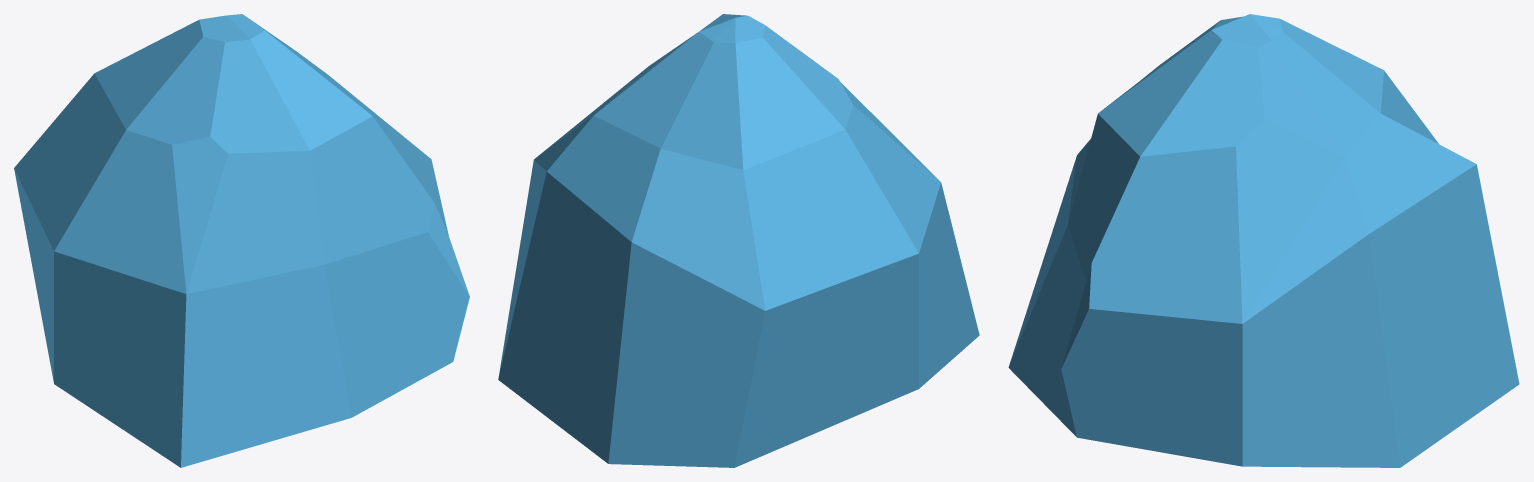
Rendered from Mesh_Rock2.fbx.
3 views of the same model, side by side, from view 1: azimuth 30°, elevation 25°; view 2: azimuth 150°, elevation 25°; view 3: azimuth 270°, elevation 25° (orthographic). The views are drawn at different scales.
Visible parts, largest first — view 1: Rocher2; view 2: Rocher2; view 3: Rocher2.
Boxes of the visible parts, x1,y1,x2,y2 form: Rocher2: (14,14,469,467); Rocher2: (498,14,979,467); Rocher2: (1008,14,1519,467).
Bounding box in the file's own units: 190 × 170 × 208.
